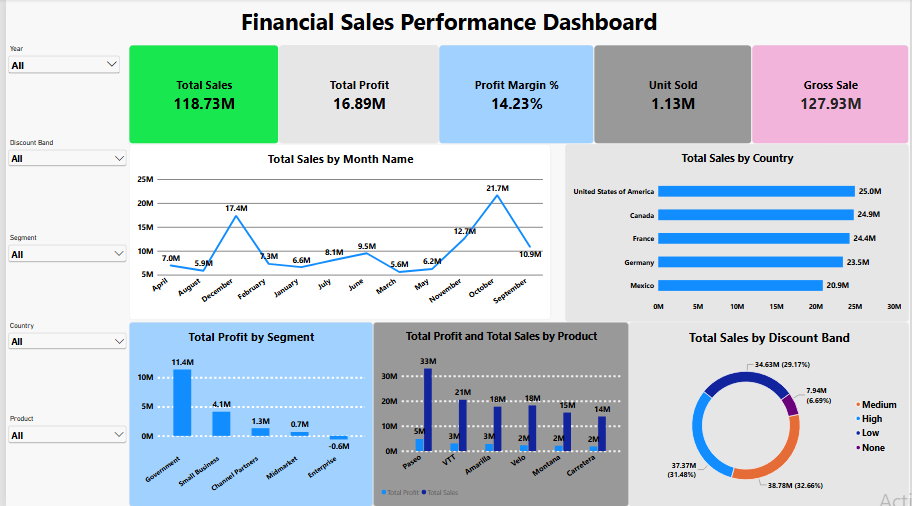

The page's visual inventory and layout, read from the dashboard file:
{"tool":"powerbi","page":{"name":"Page 1","canvas":[1920,1080],"ordinal":0},"visuals":[{"type":"cardVisual","fields":{"Data":["financials.Total Sales"]},"box":[261.5,97.8,318.9,210.5],"z":0},{"type":"cardVisual","fields":{"Data":["financials.Unit Sold"]},"box":[1250.1,97.8,335.9,210.5],"z":1},{"type":"cardVisual","fields":{"Data":["financials.Profit Margin %"]},"box":[920.6,97.8,329.5,210.5],"z":2},{"type":"cardVisual","fields":{"Data":["financials.Gross Sale"]},"box":[1586,97.8,333.8,210.5],"z":3},{"type":"cardVisual","fields":{"Data":["financials.Total Profit"]},"box":[580.4,97.8,340.2,210.5],"z":4},{"type":"clusteredBarChart","fields":{"Category":["financials.Country"],"Y":["financials.Total Sales"]},"box":[1188.4,308.3,731.3,378.4],"z":5},{"type":"clusteredColumnChart","fields":{"Category":["financials.Product"],"Y":["financials.Total Profit","financials.Total Sales"]},"box":[780.2,686.7,544.3,393.3],"z":6},{"type":"lineChart","fields":{"Y":["financials.Total Sales"],"Category":["financials.Month Name"]},"box":[261.5,308.3,897.2,374.2],"z":7},{"type":"columnChart","fields":{"Category":["financials.Segment"],"Y":["financials.Total Profit"]},"box":[261.5,686.7,518.7,393.3],"z":8},{"type":"donutChart","fields":{"Category":["financials.Discount Band"],"Y":["financials.Total Sales"]},"box":[1324.5,686.7,595.3,393.3],"z":9},{"type":"slicer","fields":{"Values":["financials.Country"]},"box":[0,686.7,261.5,197.7],"z":10},{"type":"slicer","fields":{"Values":["financials.Segment"]},"box":[0,499.6,261.5,182.8],"z":11},{"type":"slicer","fields":{"Values":["financials.Product"]},"box":[0,884.4,261.5,195.6],"z":12},{"type":"slicer","fields":{"Values":["financials.Discount Band"]},"box":[0,297.6,261.5,197.7],"z":13},{"type":"slicer","fields":{"Values":["financials.Date.Variation.Date Hierarchy.Year"]},"box":[0,97.8,246.6,189.2],"z":14},{"type":"textbox","box":[261.5,14.9,1360.6,82.9],"z":15}]}

Visuals, with their boxes in screenshot pixels (x1, y1, x2, y2), scaled from the page's 1920x1080 canvas onto the 912x506 screenshot:
cardVisual - financials.Total Sales: select_region(124, 46, 276, 144)
cardVisual - financials.Unit Sold: select_region(594, 46, 753, 144)
cardVisual - financials.Profit Margin %: select_region(437, 46, 594, 144)
cardVisual - financials.Gross Sale: select_region(753, 46, 911, 144)
cardVisual - financials.Total Profit: select_region(276, 46, 437, 144)
clusteredBarChart - financials.Country x financials.Total Sales: select_region(564, 144, 911, 322)
clusteredColumnChart - financials.Product x financials.Total Profit: select_region(371, 322, 629, 505)
lineChart - financials.Total Sales x financials.Month Name: select_region(124, 144, 550, 320)
columnChart - financials.Segment x financials.Total Profit: select_region(124, 322, 371, 505)
donutChart - financials.Discount Band x financials.Total Sales: select_region(629, 322, 911, 505)
slicer - financials.Country: select_region(0, 322, 124, 414)
slicer - financials.Segment: select_region(0, 234, 124, 320)
slicer - financials.Product: select_region(0, 414, 124, 505)
slicer - financials.Discount Band: select_region(0, 139, 124, 232)
slicer - financials.Date.Variation.Date Hierarchy.Year: select_region(0, 46, 117, 134)
textbox: select_region(124, 7, 770, 46)
